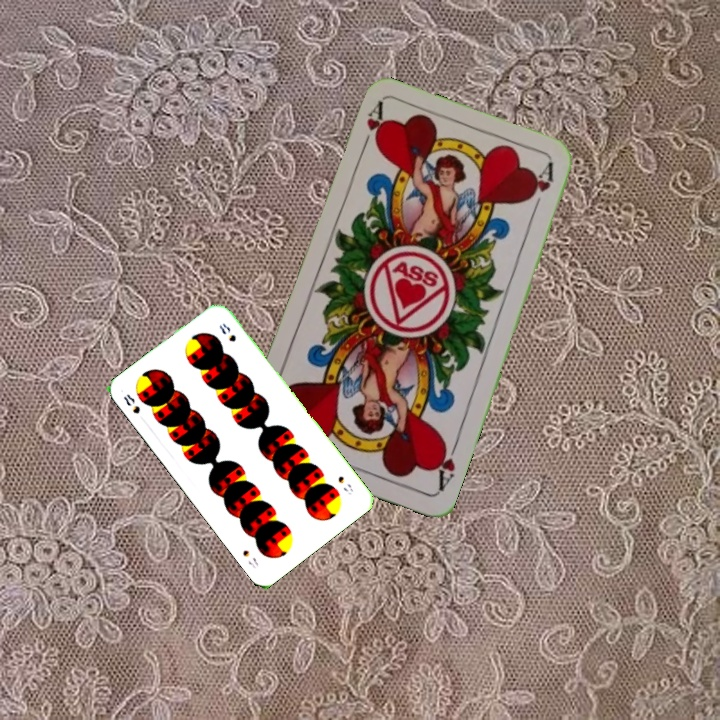HA: (430, 436, 461, 494), (356, 99, 387, 157)
S8: (119, 390, 143, 416), (334, 472, 356, 497)
